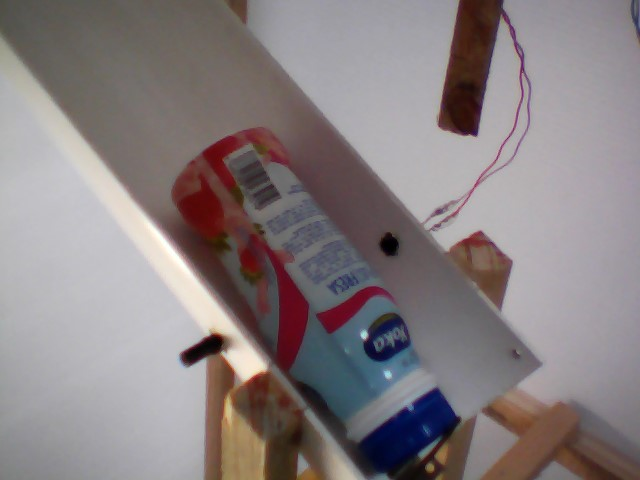plastico: (160, 120, 467, 478)
